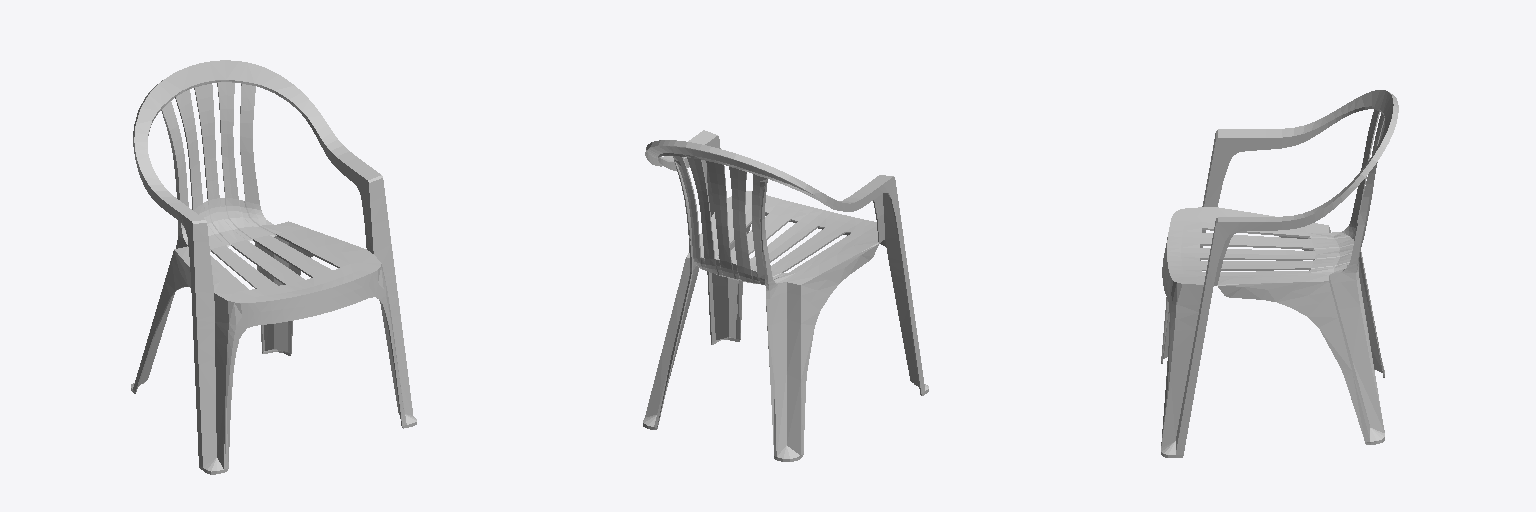
The model's file is plastic_monobloc_chair_01_4k.obj.
3 views of the same model, side by side, from view 1: azimuth 30°, elevation 25°; view 2: azimuth 150°, elevation 25°; view 3: azimuth 270°, elevation 25° (orthographic).
Visible parts, largest first — view 1: plastic_monobloc_chair_01; view 2: plastic_monobloc_chair_01; view 3: plastic_monobloc_chair_01.
Boxes of the visible parts, box(x1,y1,x2,y2) form: plastic_monobloc_chair_01: box(131, 60, 416, 474); plastic_monobloc_chair_01: box(643, 130, 928, 461); plastic_monobloc_chair_01: box(1161, 90, 1398, 457).
Bounding box in the file's own units: 0.6419 × 0.8798 × 0.6276.